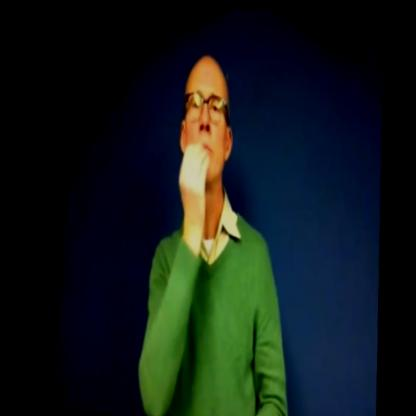Food: (159, 37, 247, 234)
